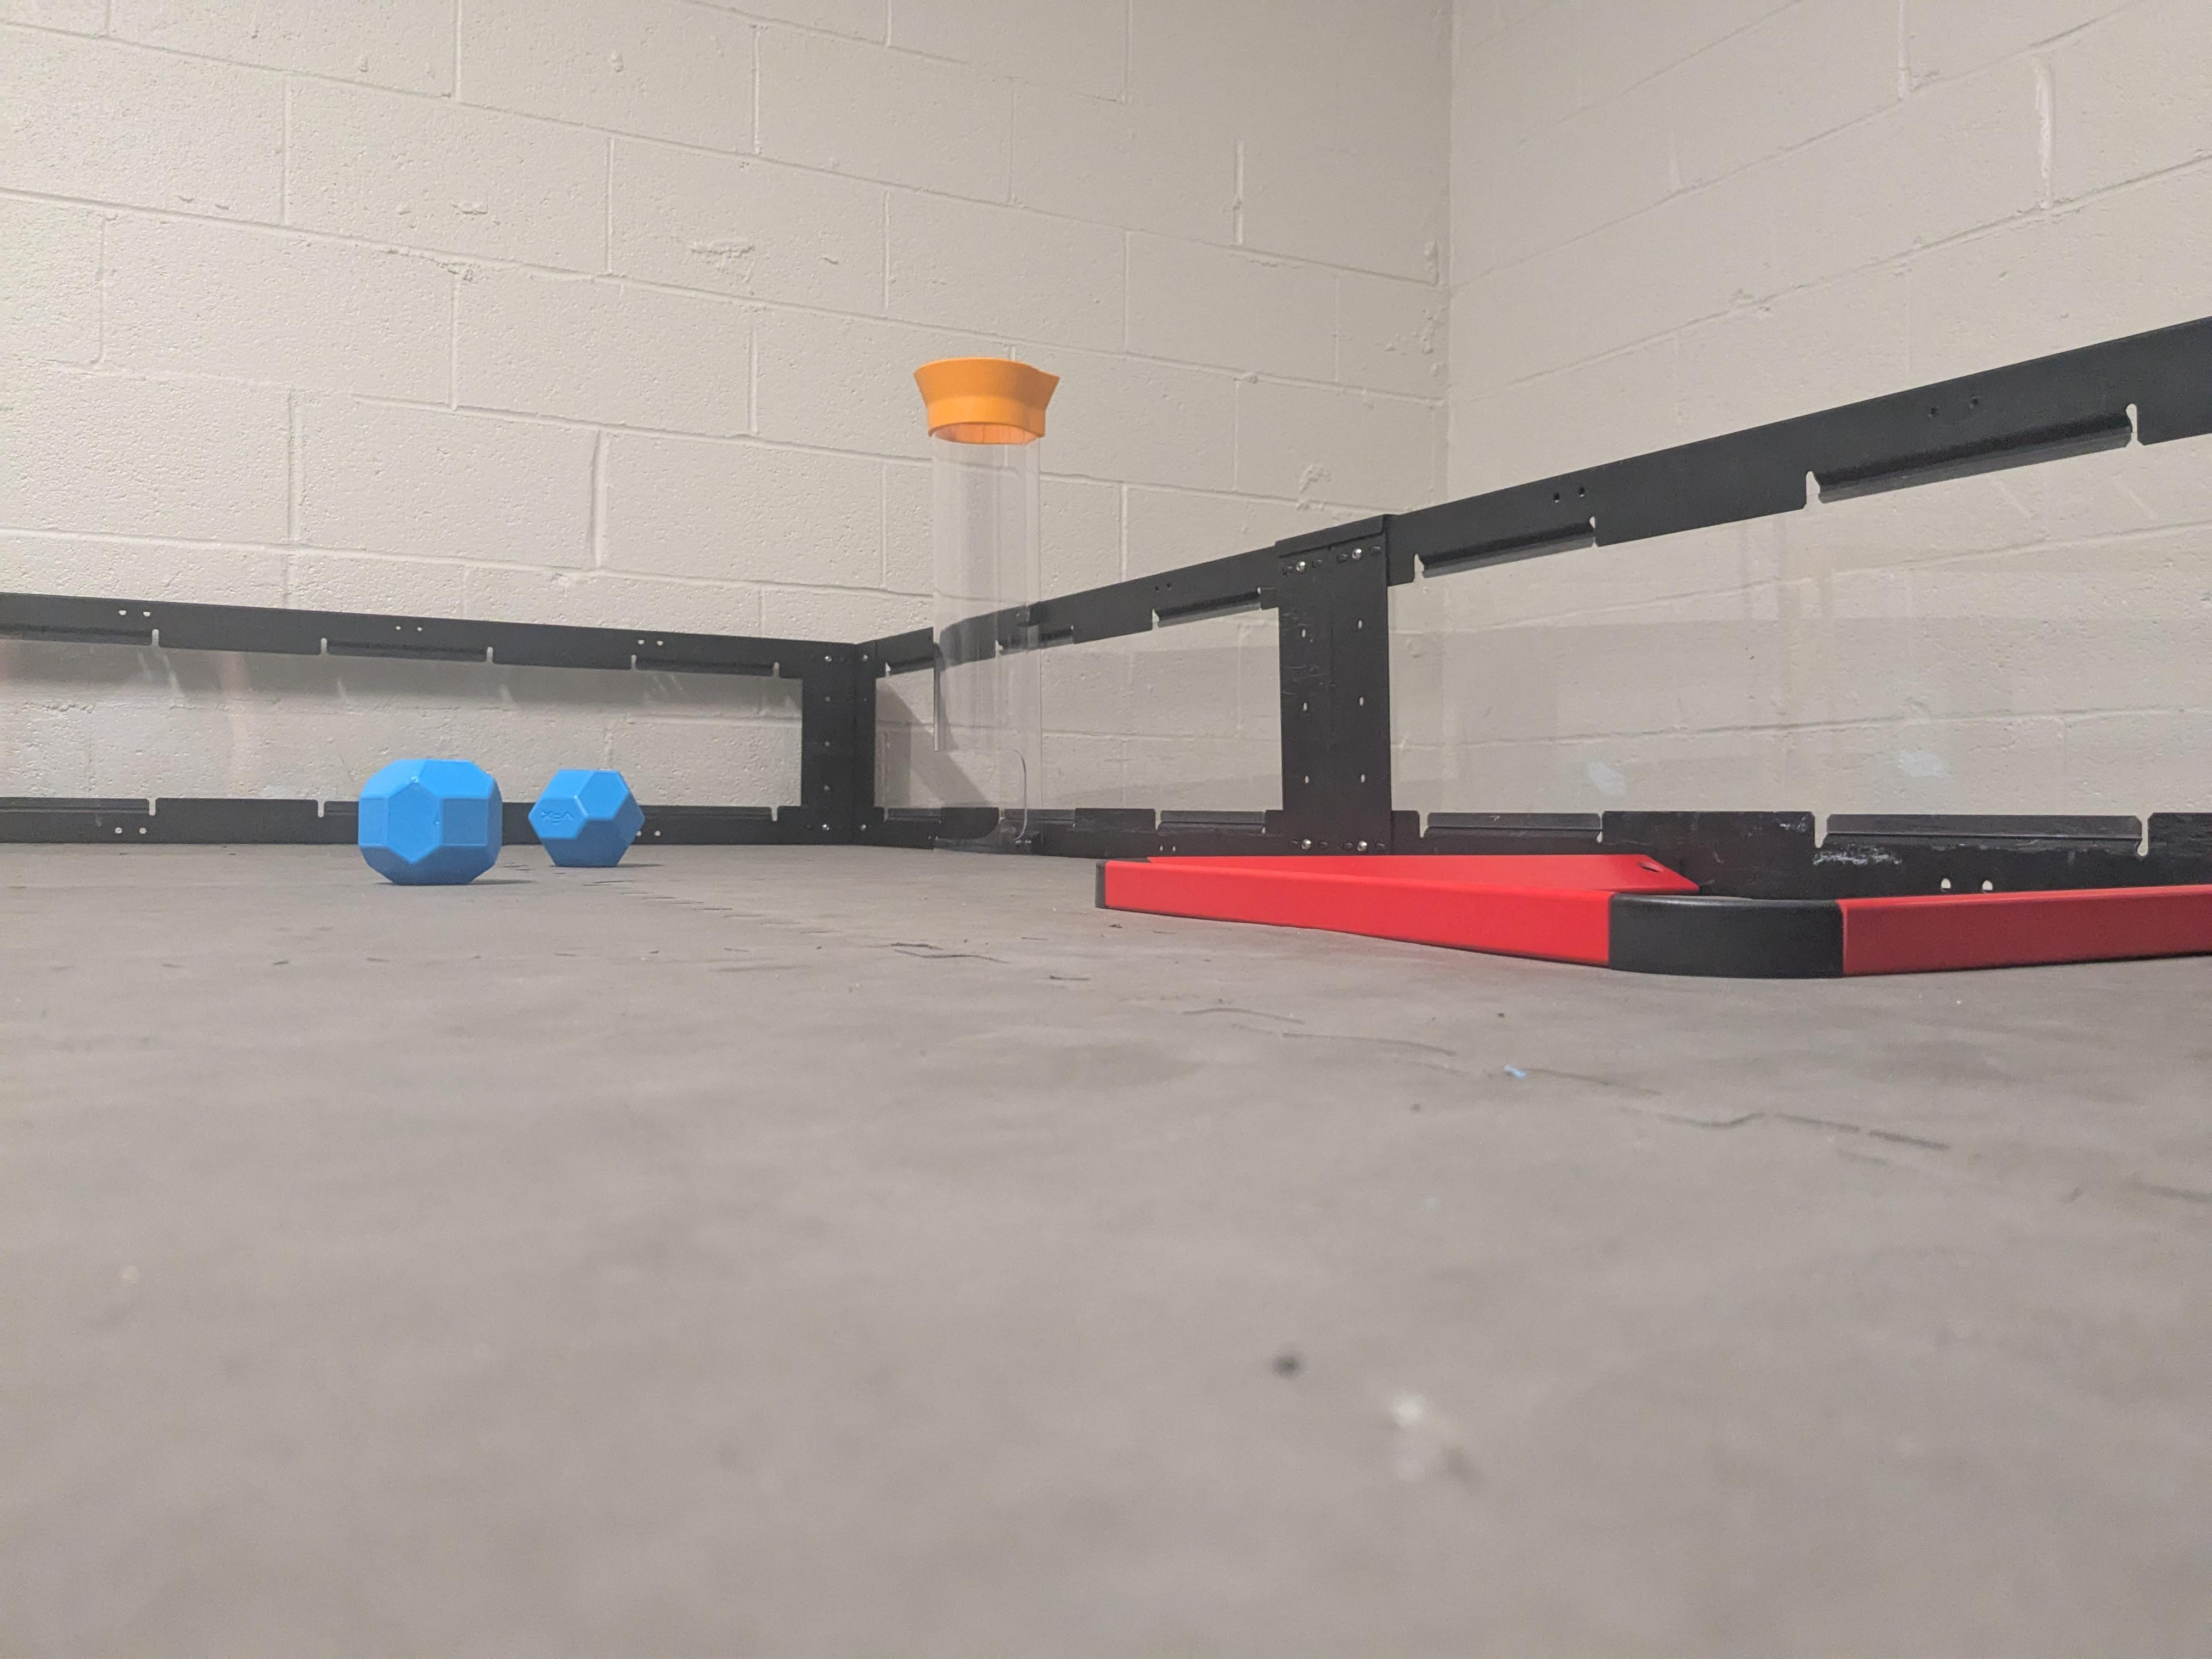Vex-Pieces-BLUE: (359, 756, 524, 885), (533, 770, 639, 868)
